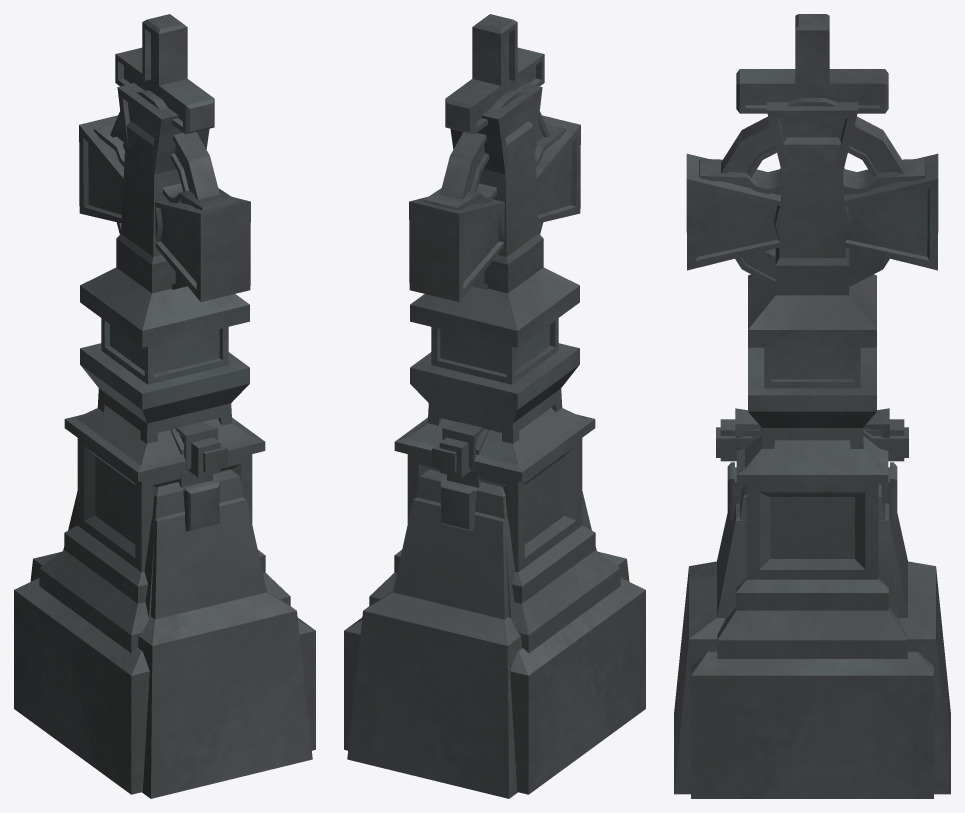
Rendered from gravestones.fbx.
3 views of the same model, side by side, from view 1: azimuth 30°, elevation 25°; view 2: azimuth 150°, elevation 25°; view 3: azimuth 270°, elevation 25° (orthographic). The views are drawn at different scales.
Parts seen in each view (by area): view 1: gravestone12, gravestone10, gravestone11, gravestone9, gravestone6, gravestone8, gravestone7; view 2: gravestone12, gravestone10, gravestone11, gravestone9, gravestone6, gravestone8, gravestone7; view 3: gravestone11, gravestone9, gravestone12, gravestone10, gravestone8, gravestone6, gravestone7.
Boxes of the visible parts, x1,y1,x2,y2 form: gravestone12: (30, 83, 312, 798); gravestone10: (80, 14, 249, 443); gravestone11: (14, 90, 315, 794); gravestone9: (39, 121, 290, 653); gravestone6: (183, 481, 219, 531); gravestone8: (179, 434, 227, 477); gravestone7: (176, 422, 217, 469); gravestone12: (347, 83, 629, 798); gravestone10: (410, 14, 579, 443); gravestone11: (344, 90, 645, 794); gravestone9: (369, 121, 620, 653); gravestone6: (440, 481, 476, 531); gravestone8: (432, 434, 480, 477); gravestone7: (442, 422, 483, 468); gravestone11: (691, 98, 933, 798); gravestone9: (717, 137, 907, 658); gravestone12: (674, 102, 950, 794); gravestone10: (736, 14, 888, 448); gravestone8: (716, 419, 908, 461); gravestone6: (727, 462, 897, 521); gravestone7: (735, 408, 889, 458).
Bounding box in the file's own units: 152 × 445 × 121.
Materials: 2 (2 with a texture image).
